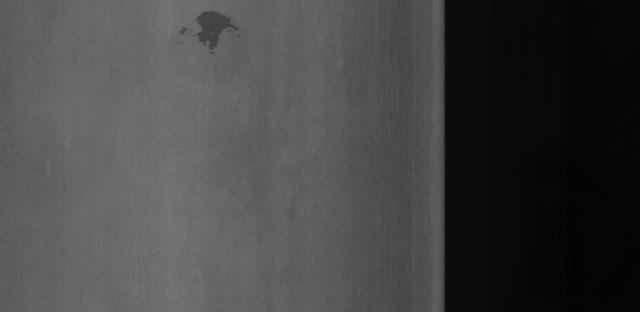oil_spot: (181, 6, 238, 65)
